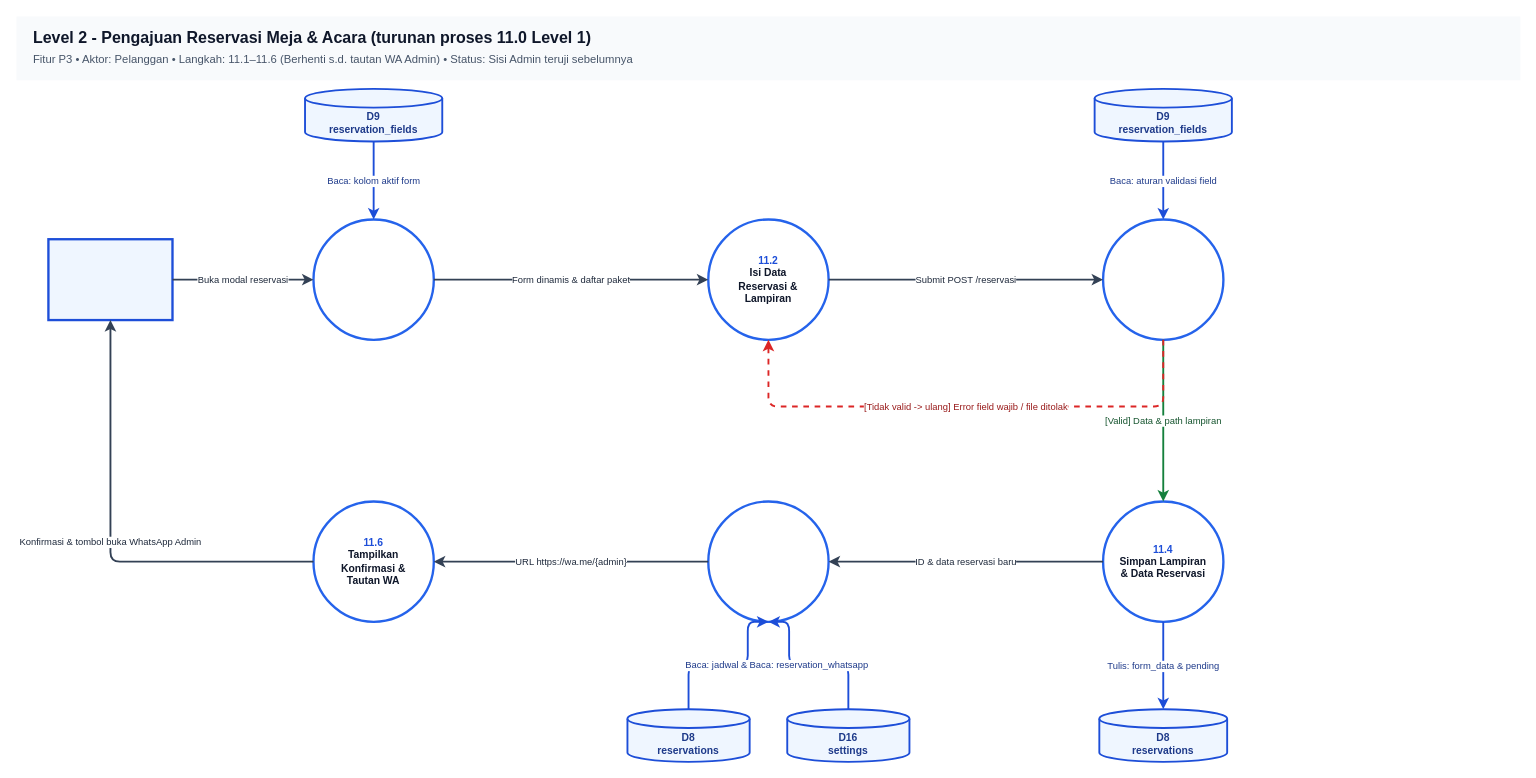
Image size: 1536x778. Some labels were removed from this diagram. Each missing label, with the centre of its shape:
11.1 Muat Form Dinamis & Paket: [373,279]
11.3 Validasi Field & File Lampiran: [1162,279]
11.5 Susun Pesan & Tautan WA Admin: [768,561]
Pelanggan Tanpa Login: [110,279]
